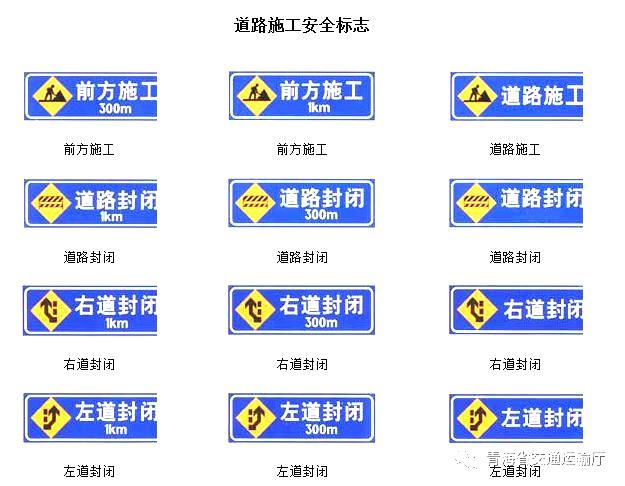sign: (20, 391, 156, 445), (229, 393, 376, 442), (228, 283, 373, 332), (19, 286, 157, 335), (228, 179, 375, 225), (25, 178, 159, 227), (26, 69, 155, 119), (230, 74, 373, 119), (449, 179, 583, 226), (450, 285, 582, 332), (452, 72, 583, 119), (450, 396, 581, 441)
